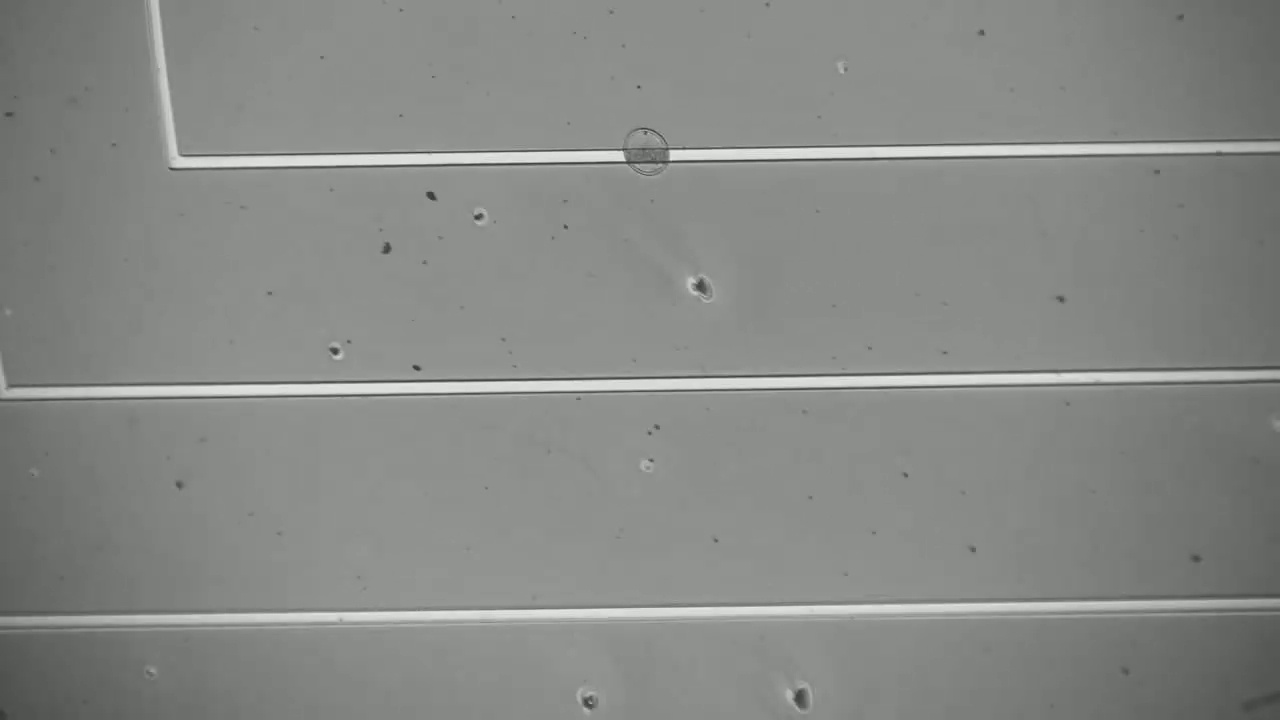gray_line: (607, 137, 686, 172)
